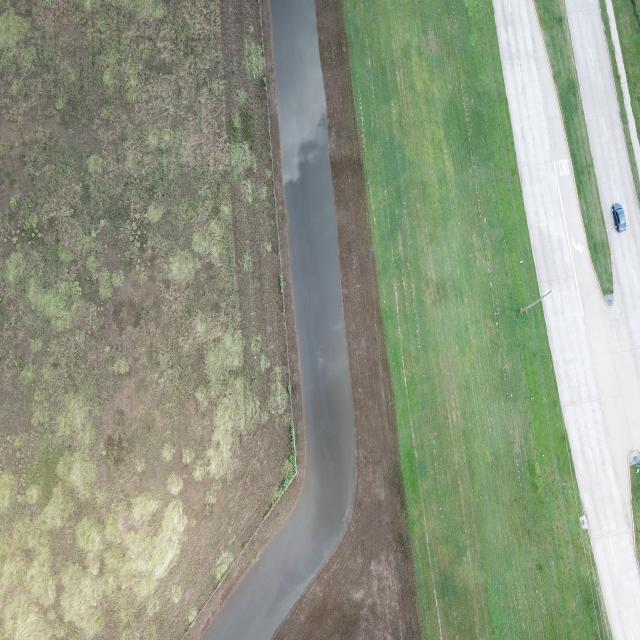fire: (203, 0, 355, 640)
